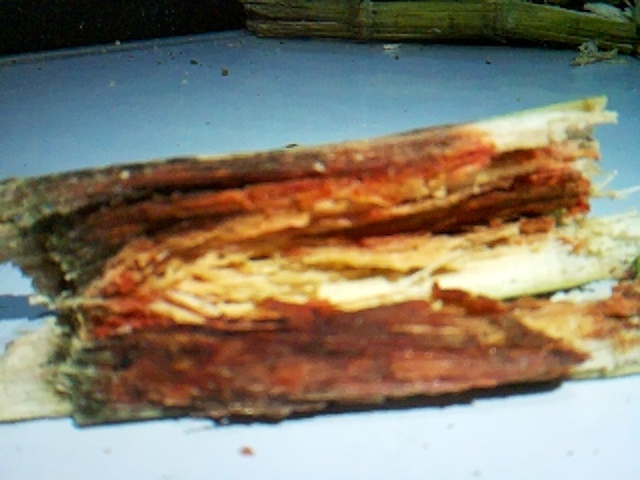Red-Rot: (23, 111, 625, 418)
